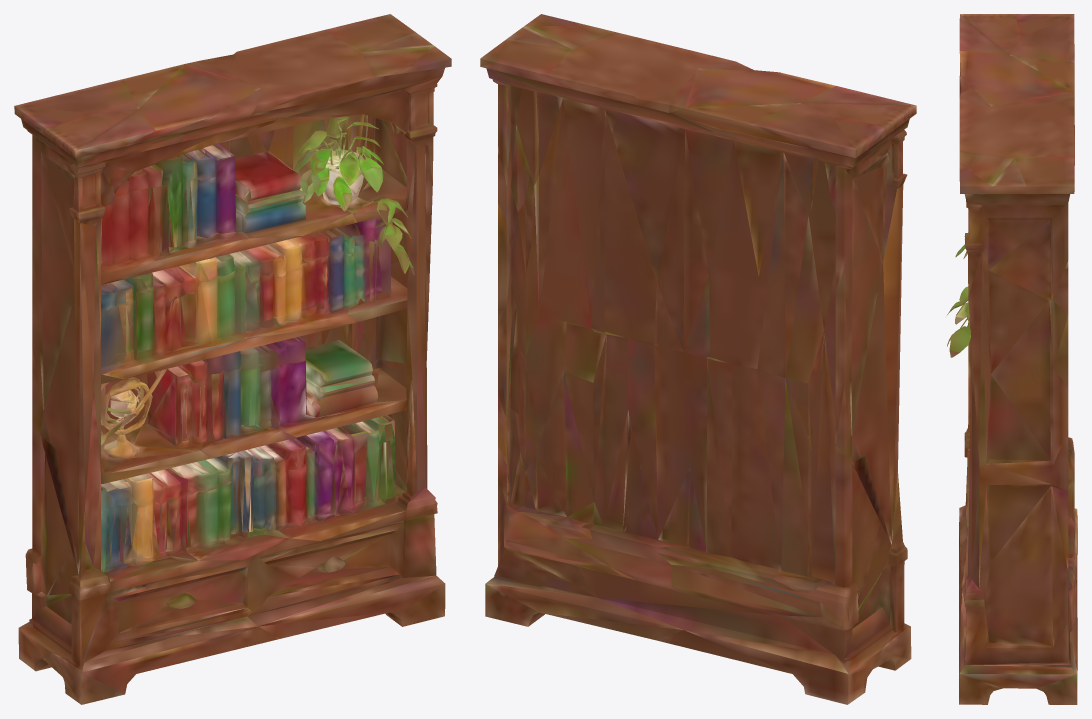
The model's file is bookshelf.glb.
3 renders of one model, left to right at view 1: azimuth 30°, elevation 25°; view 2: azimuth 150°, elevation 25°; view 3: azimuth 270°, elevation 25°, orthographic. The views are drawn at different scales.
Visible parts, largest first — view 1: Mesh_0; view 2: Mesh_0; view 3: Mesh_0.
Boxes of the visible parts, x1=… form: Mesh_0: x1=14, y1=14, x2=451, y2=704; Mesh_0: x1=480, y1=14, x2=916, y2=704; Mesh_0: x1=947, y1=14, x2=1077, y2=704.
Bounding box in the file's own units: 1.34 × 1.9 × 0.437.
1 material, 1 textured.
